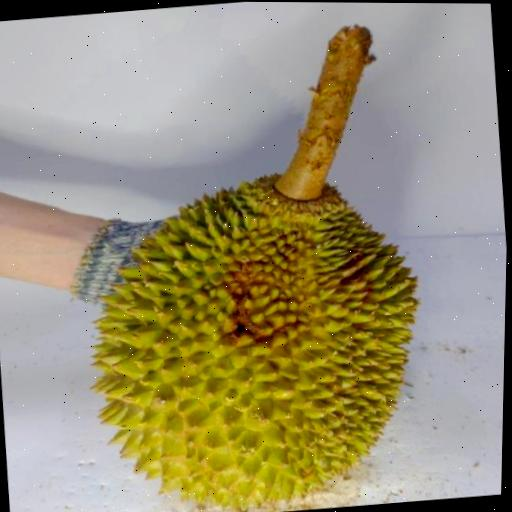rot: (39, 0, 512, 512)
